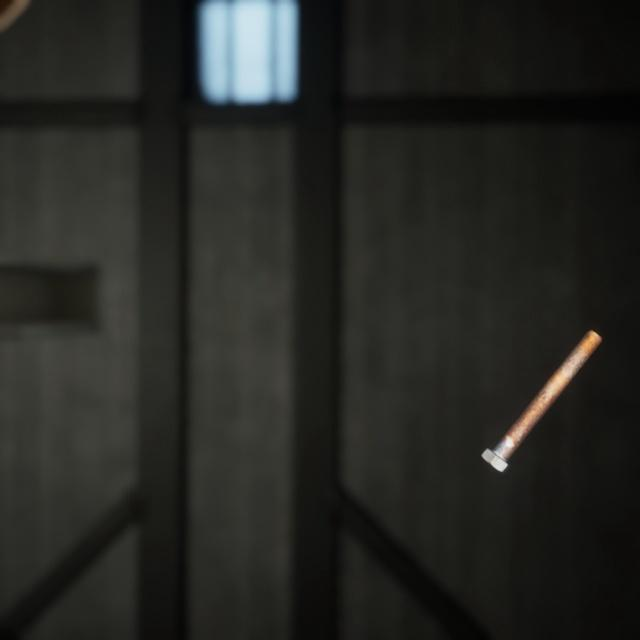bolt: (476, 306, 606, 458)
